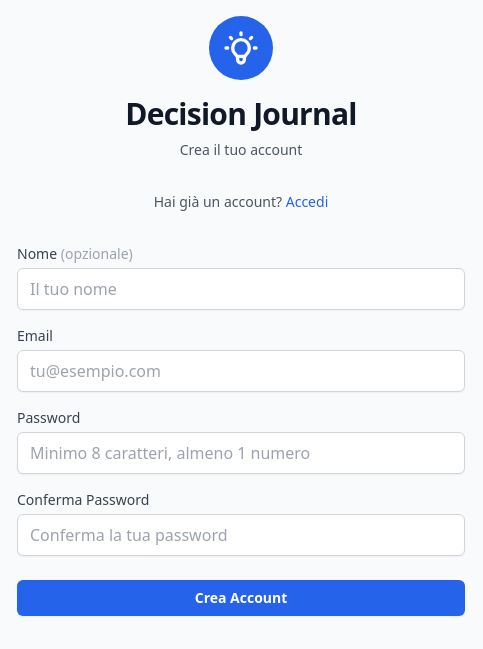
Test: Signup Page › Error State › shows network error message for connection issues
This screenshot has width=483, height=649.
expect the button "Crea Account" is shown: met, box [17, 580, 465, 616]
Type "test@example.com" into the field labelled "Email" at {"x": 241, "y": 371}, box [17, 350, 465, 392]
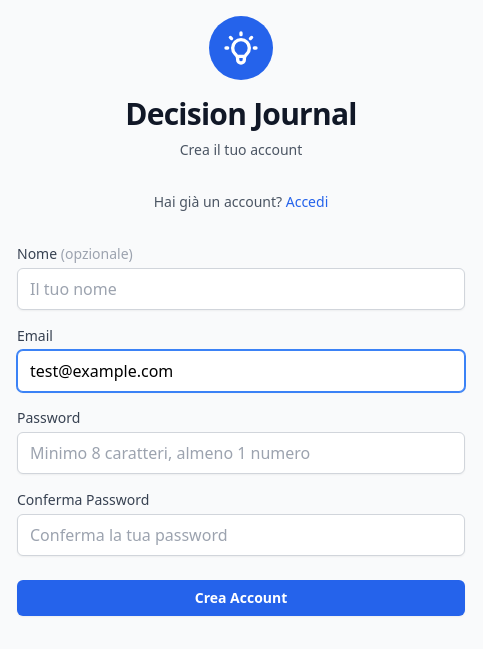
Type "password123" into the password field labelled "Password" at {"x": 241, "y": 453}, box [17, 432, 465, 474]
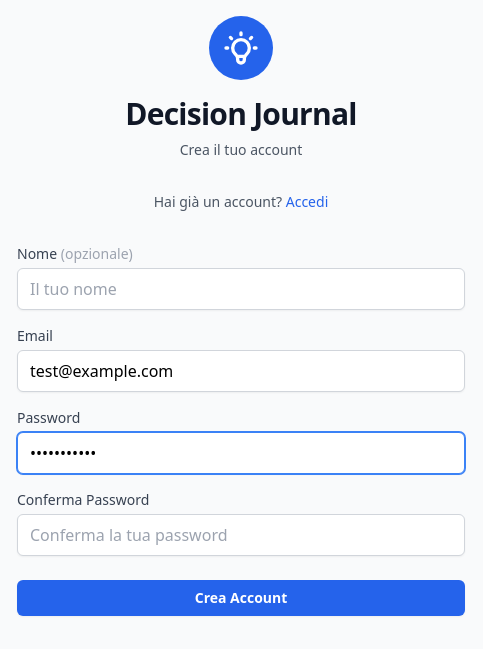
Type "password123" into the password field labelled "Conferma Password" at {"x": 241, "y": 535}, box [17, 514, 465, 556]
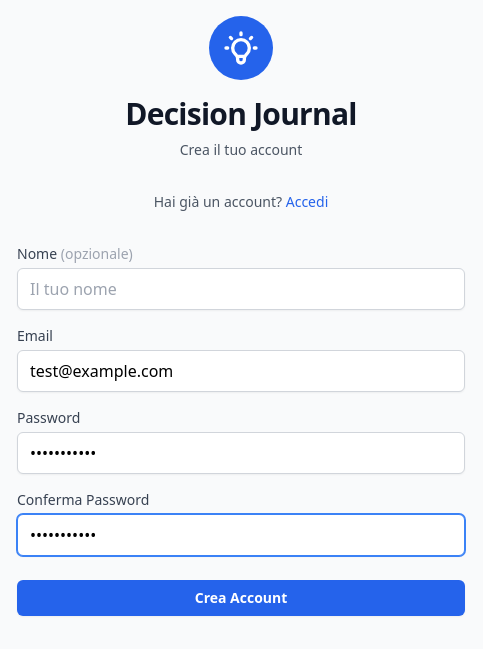
Click the button "Crea Account" at {"x": 241, "y": 598}, box [17, 580, 465, 616]
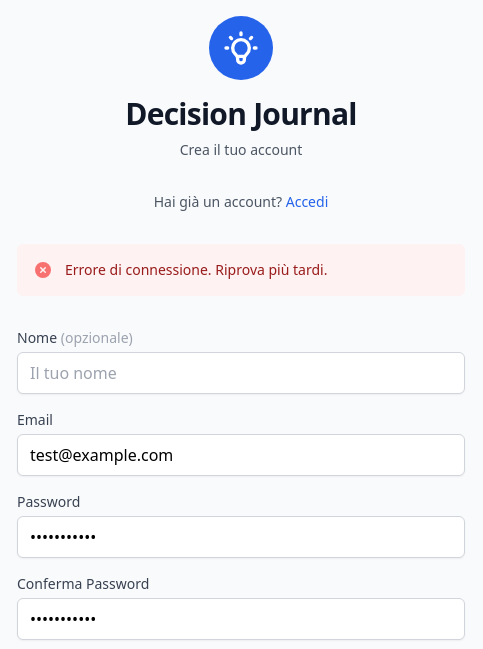
expect the message "Errore di connessione. Riprova più tardi." is shown: met, box [17, 244, 465, 296]
expect the text "Errore di connessione. Riprova più tardi." is shown: met, box [65, 260, 327, 280]
